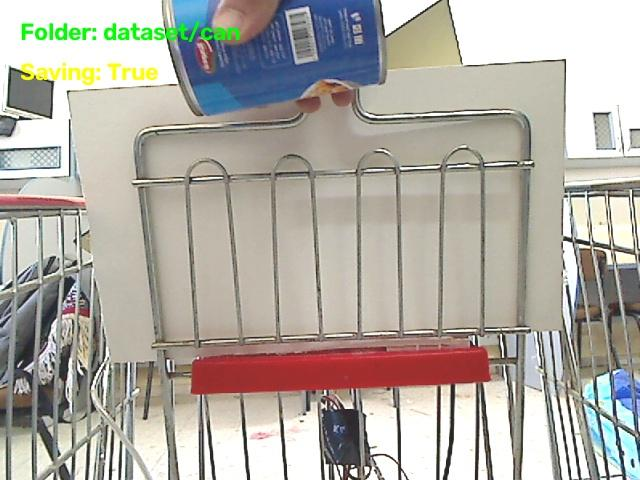can: (163, 0, 385, 114)
